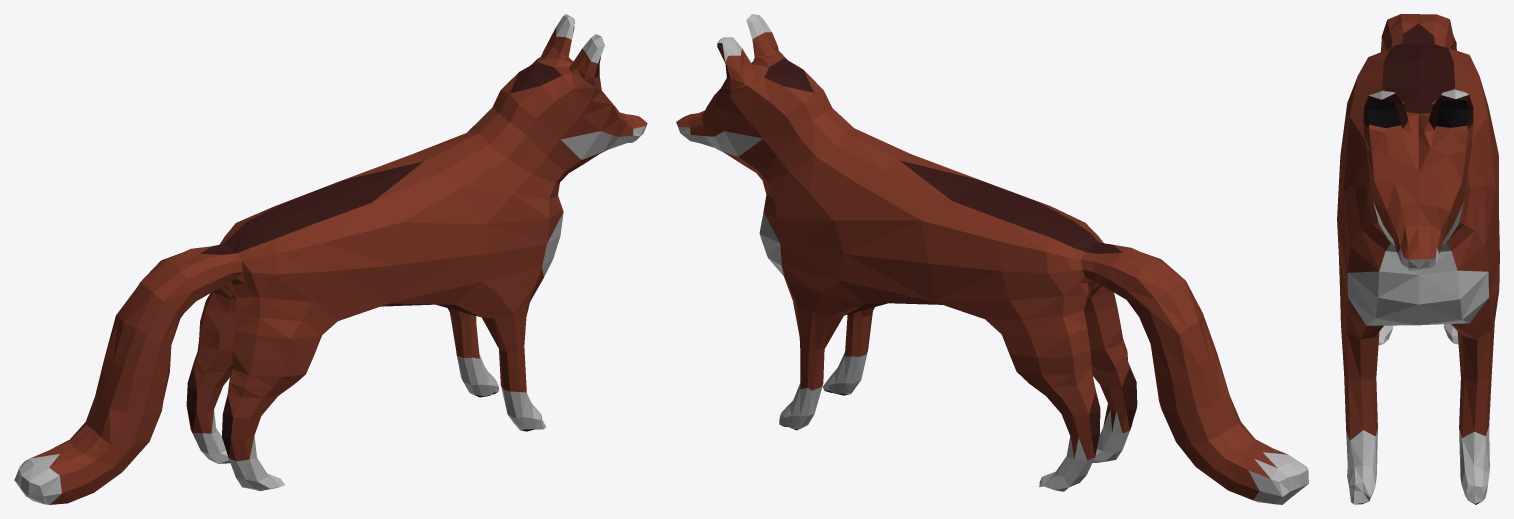
File: Fox.fbx
The picture shows the model from 3 angles, left to right: view 1: azimuth 30°, elevation 25°; view 2: azimuth 150°, elevation 25°; view 3: azimuth 270°, elevation 25°; orthographic projection. The views are drawn at different scales.
Parts seen in each view (by area): view 1: Cube; view 2: Cube; view 3: Cube.
Boxes of the visible parts, x1=… form: Cube: x1=14, y1=14, x2=647, y2=504; Cube: x1=676, y1=14, x2=1308, y2=504; Cube: x1=1337, y1=14, x2=1499, y2=504.
Bounding box in the file's own units: 611 × 346 × 112.
